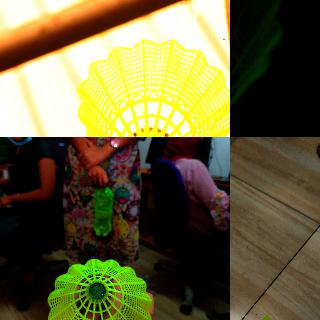shuttlecock: (77, 39, 229, 136), (230, 0, 284, 136), (47, 258, 152, 319), (250, 314, 277, 319)
